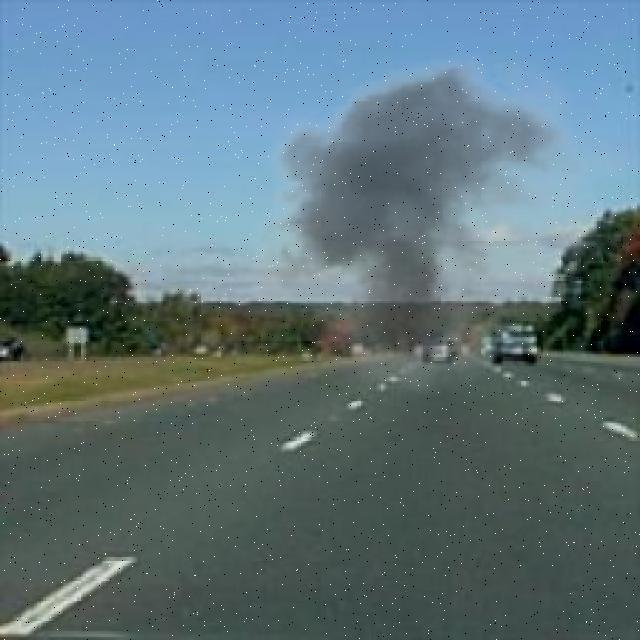smoke: (299, 88, 525, 374)
